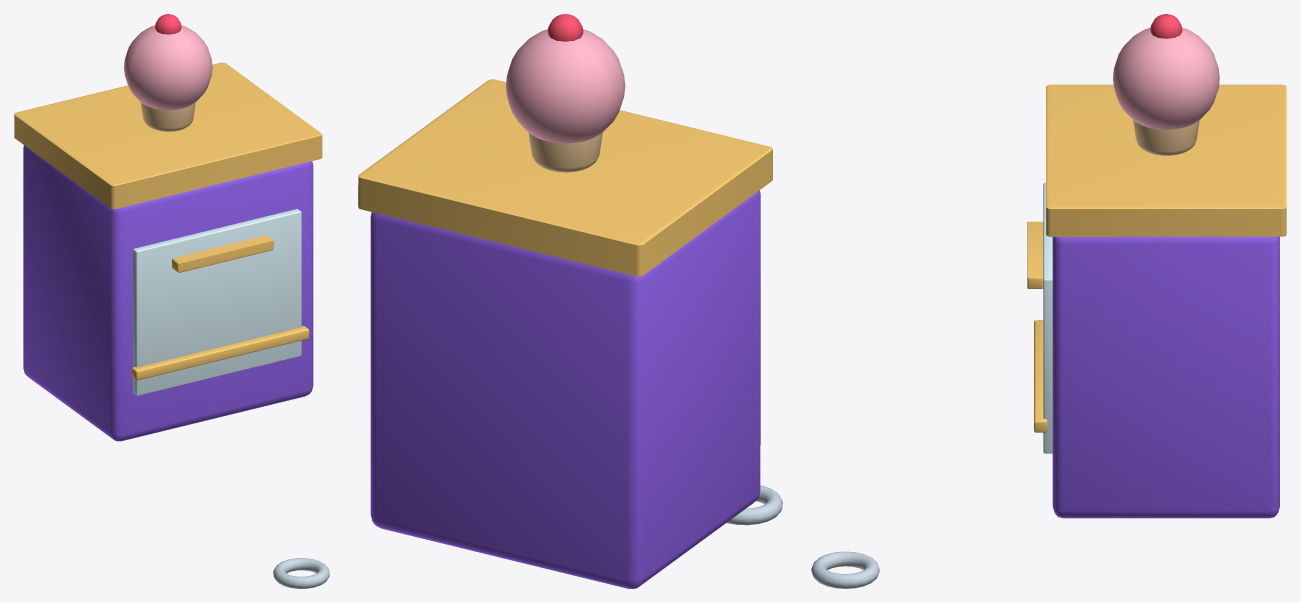
Rendered from object-cupcake-oven.glb.
3 renders of one model, left to right at view 1: azimuth 30°, elevation 25°; view 2: azimuth 150°, elevation 25°; view 3: azimuth 270°, elevation 25°, orthographic. The views are drawn at different scales.
Visible parts, largest first — view 1: Node_0-mesh, part-door-mesh, part-cupcake-mesh; view 2: Node_0-mesh, part-cupcake-mesh; view 3: Node_0-mesh, part-cupcake-mesh, part-door-mesh.
Boxes of the visible parts, box(x1,y1,x2,y2) form: Node_0-mesh: box(14, 62, 329, 588); part-door-mesh: box(131, 209, 309, 395); part-cupcake-mesh: box(124, 14, 212, 131); Node_0-mesh: box(358, 79, 782, 588); part-cupcake-mesh: box(506, 14, 625, 172); Node_0-mesh: box(811, 84, 1286, 588); part-cupcake-mesh: box(1113, 14, 1219, 155); part-door-mesh: box(1027, 183, 1052, 453).
Size of the model in its own units: 1.1 by 2.32 by 1.78.
